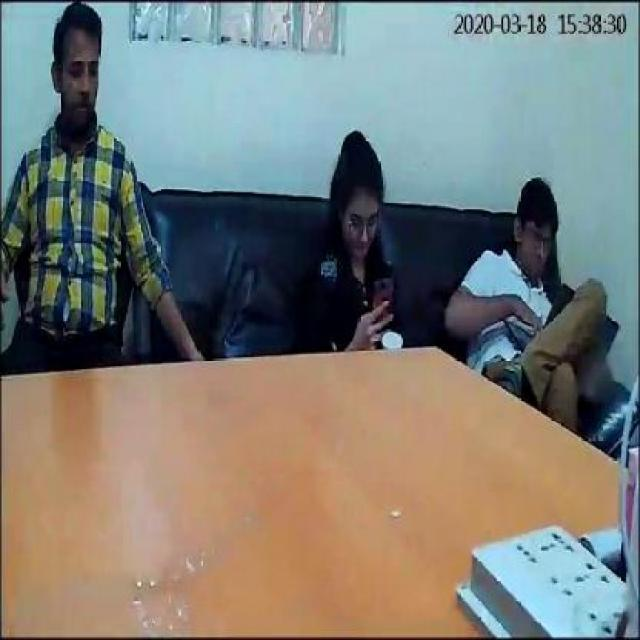spill: (14, 498, 260, 636)
